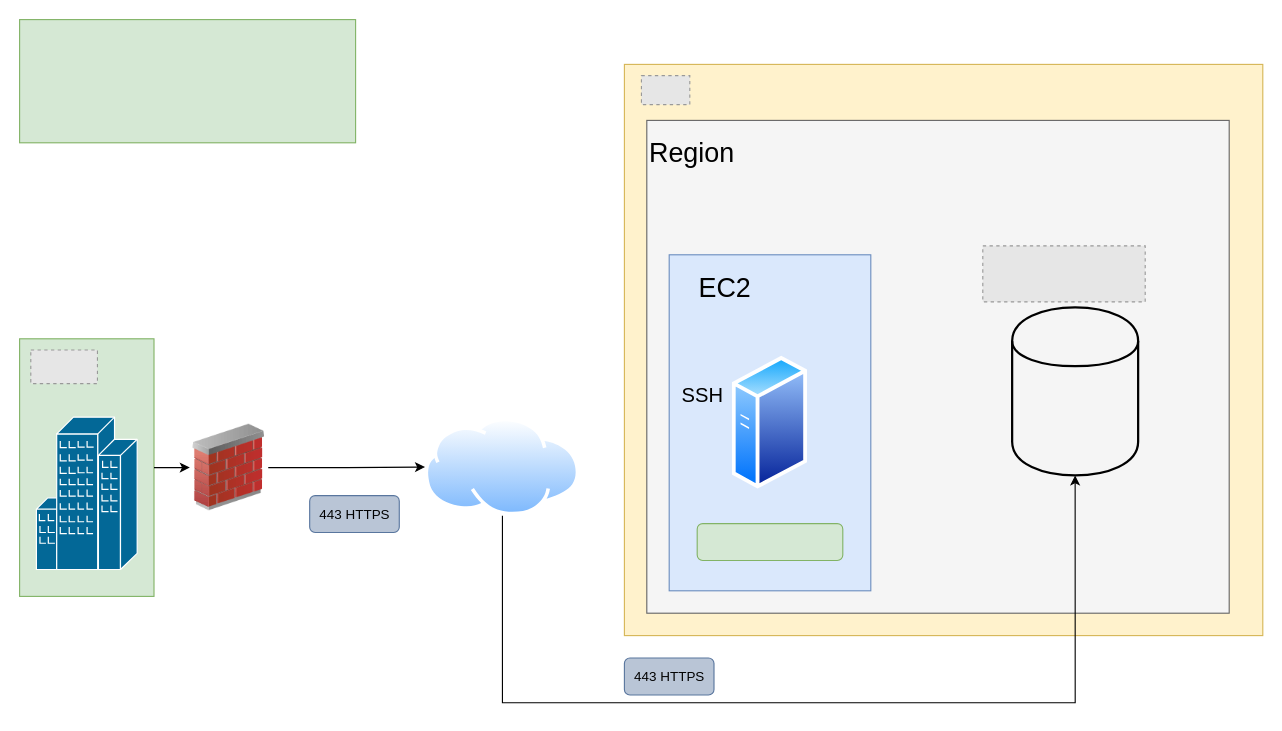
The diagram is 1282 pixels wide and 731 high, and some of its shapes have lost their labels. Grey dashed boxes stand in for pictures. Here are the shapes that lost their labels. From the top down, the box of each, then its label:
(18, 18, 356, 143): SI-T2a 2019 - 2020, CPNV Gfeller Jeremy Iljazi Dardan Niembro David
(696, 522, 843, 561): ssh key
